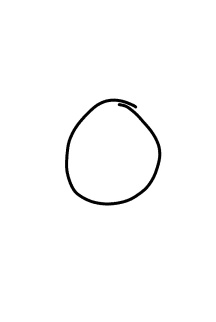Circle: (61, 95, 166, 210)
